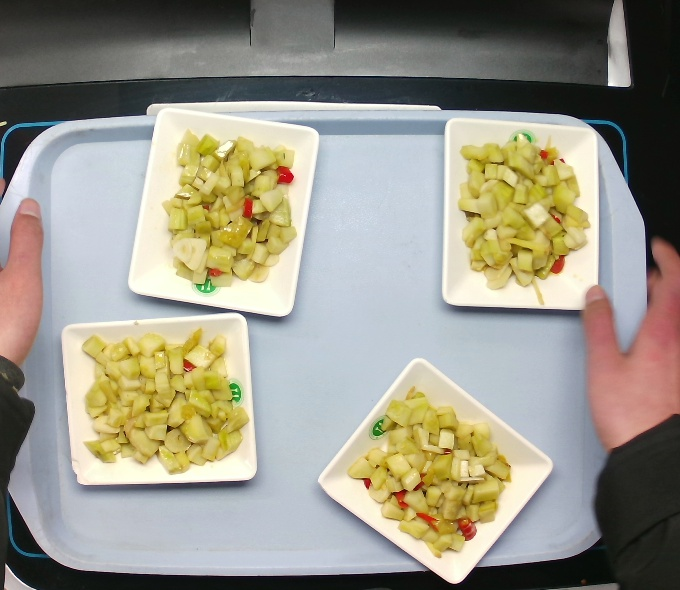wcq-YanHuaCaiGeng: (351, 385, 515, 559), (148, 123, 309, 295), (77, 324, 253, 479), (453, 136, 591, 307)
